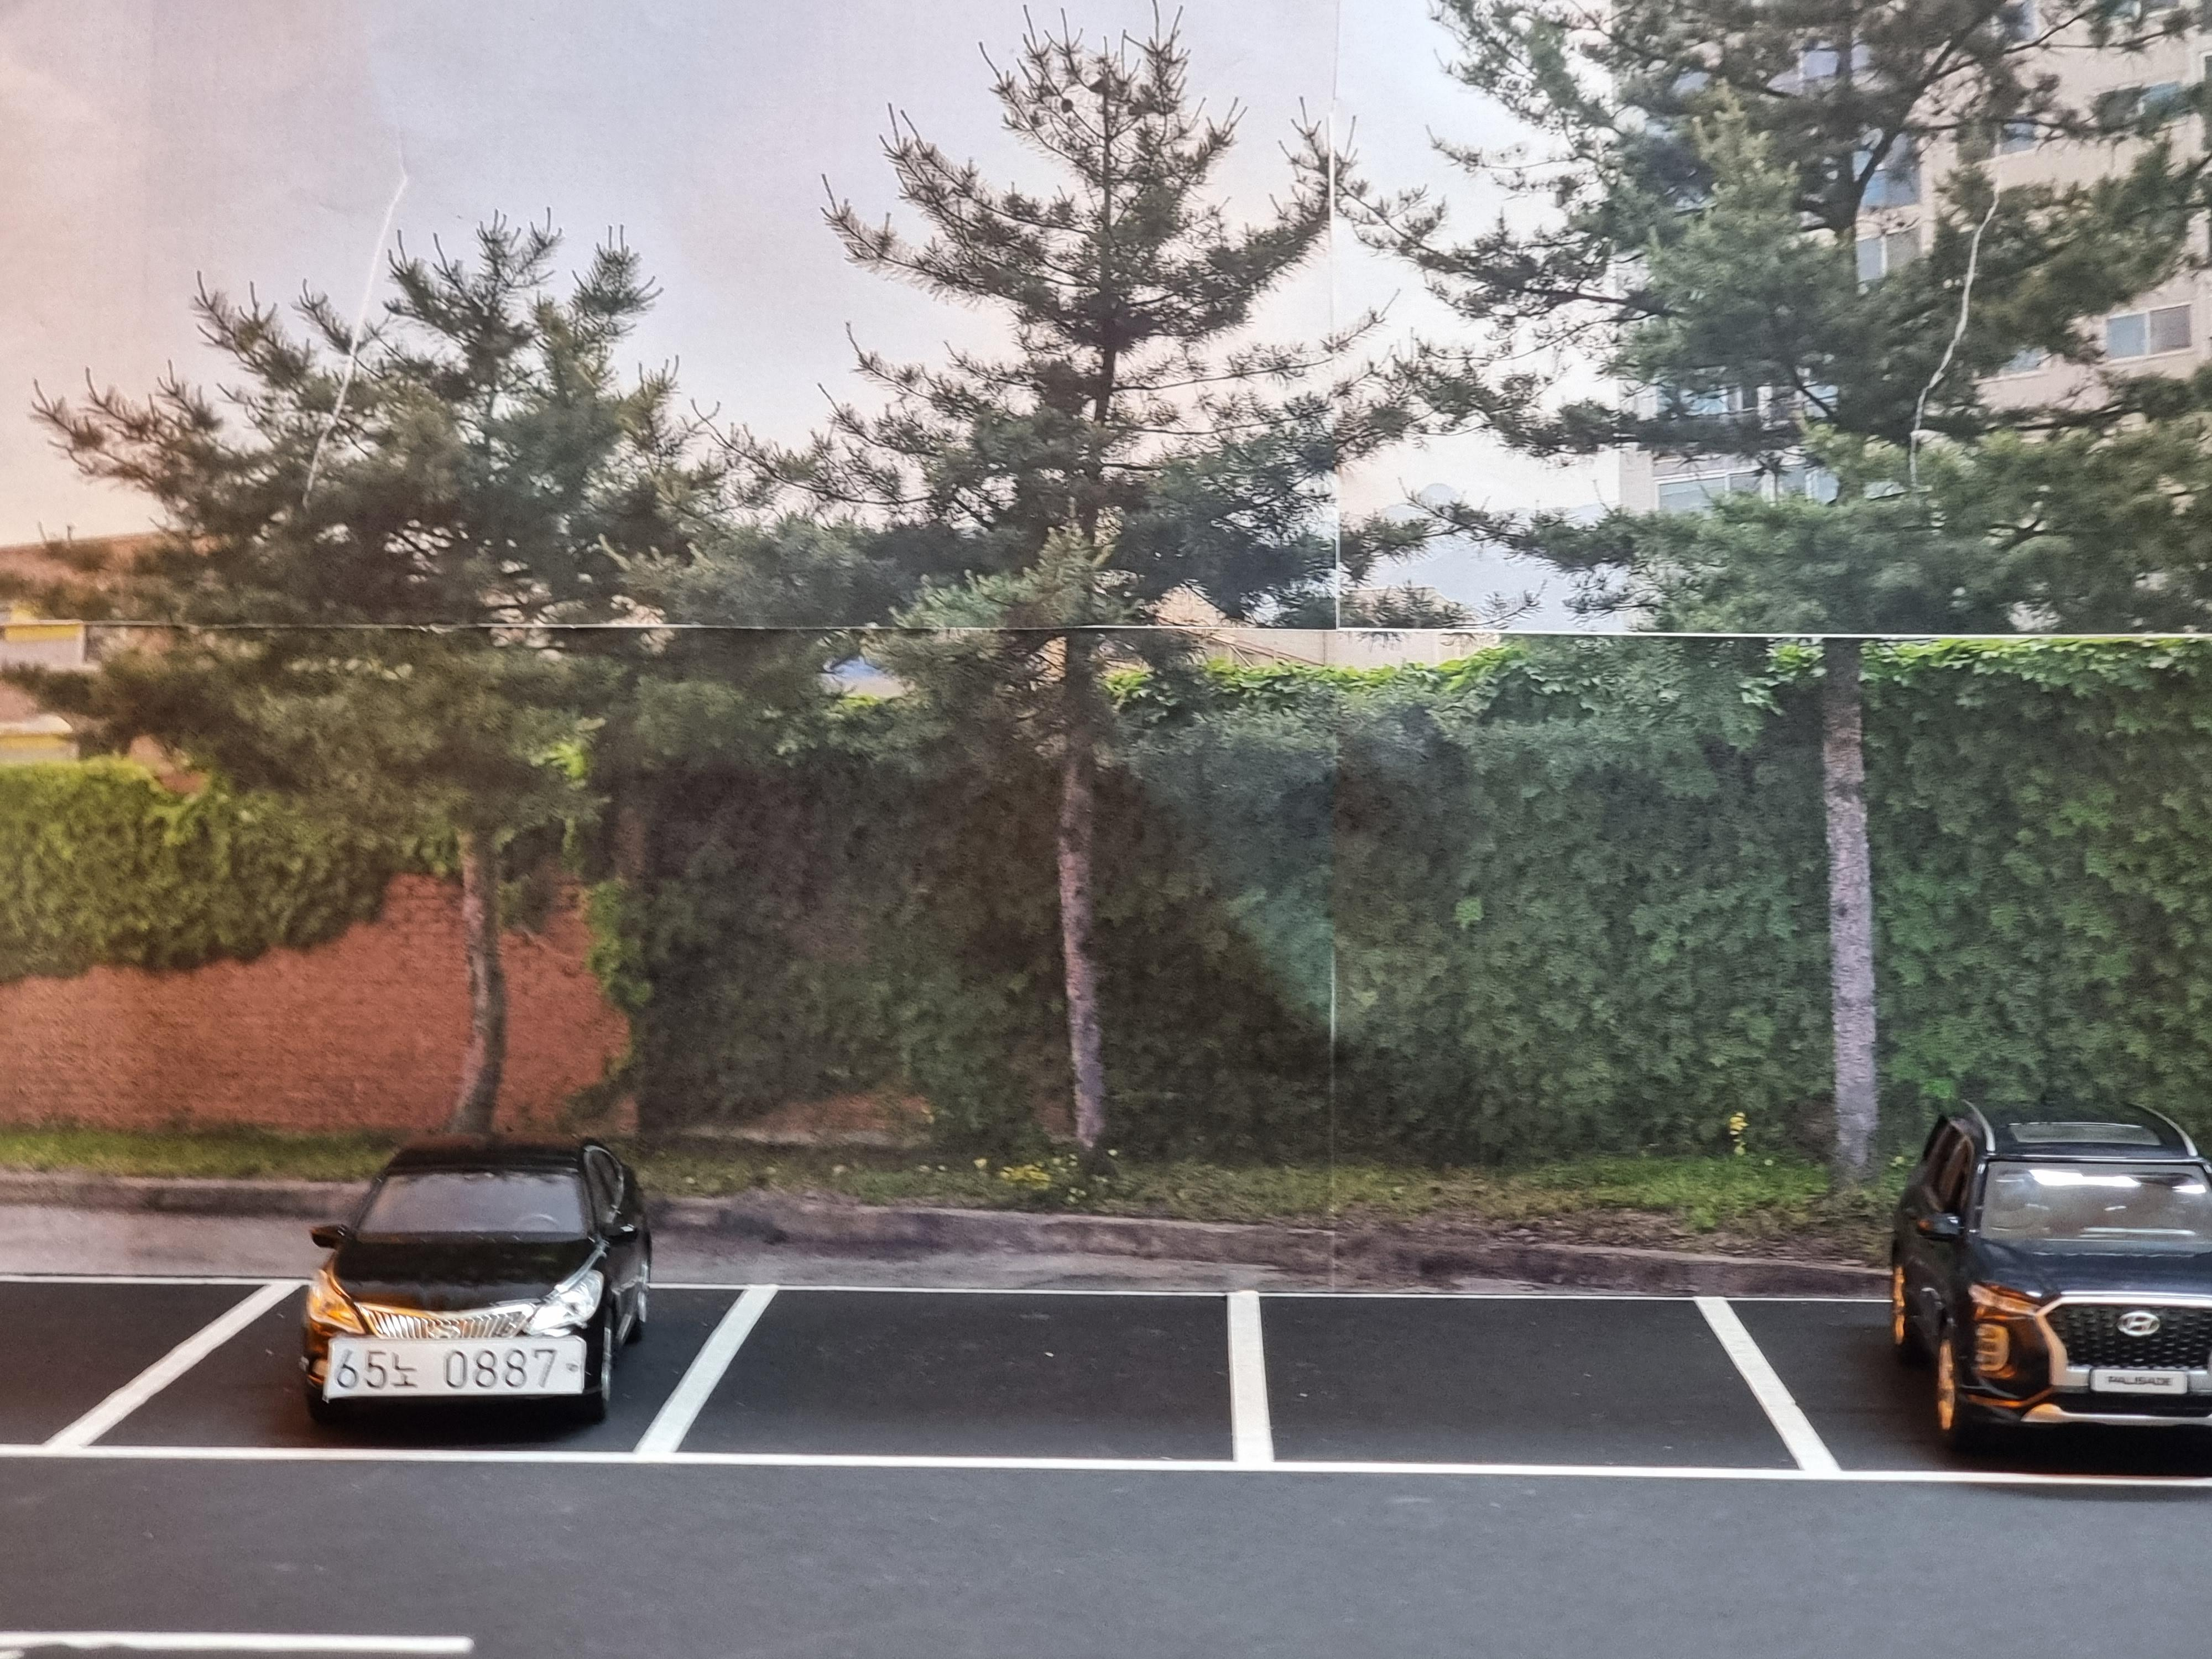empty: (631, 1272, 1288, 1487), (1248, 1295, 1819, 1496)
occupied: (1786, 1089, 2212, 1485), (252, 1125, 680, 1463)
